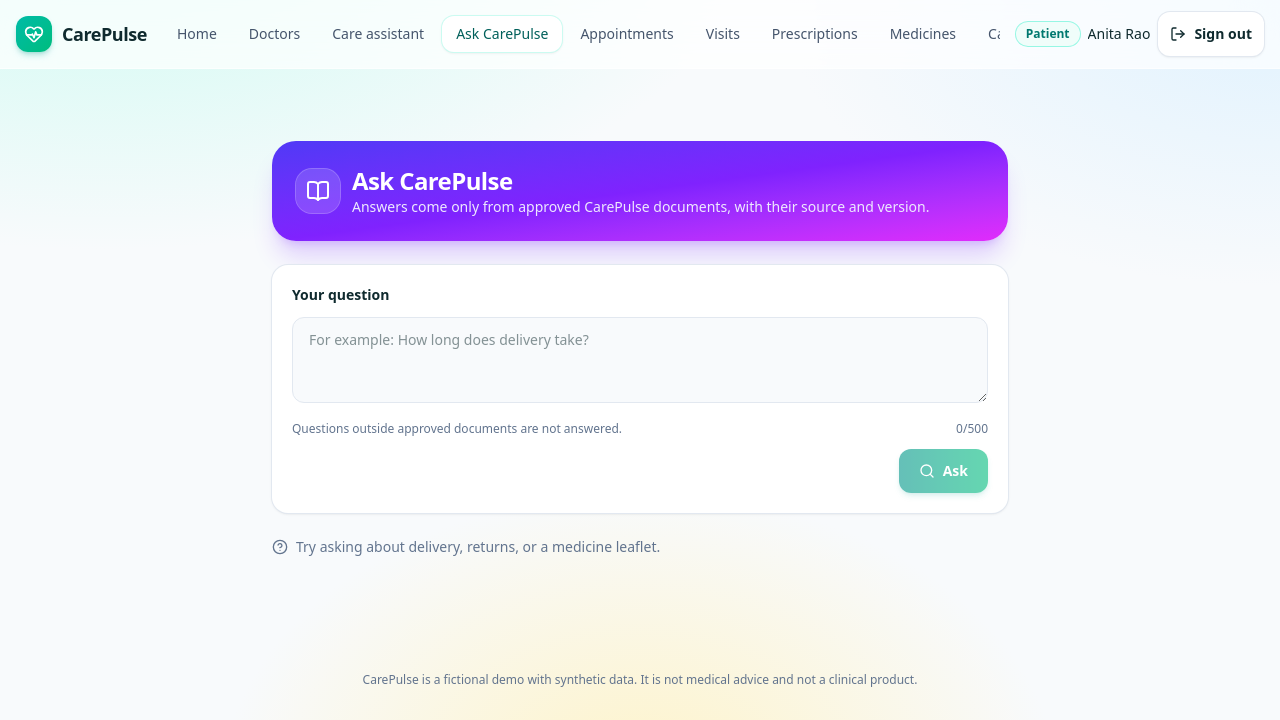
it: Ask CarePulse › source chips show the title, section and version of the cited passage
Type "How do refunds work?" into the text box labelled "Your question" at (640, 360), box left=292, top=317, right=988, bottom=403
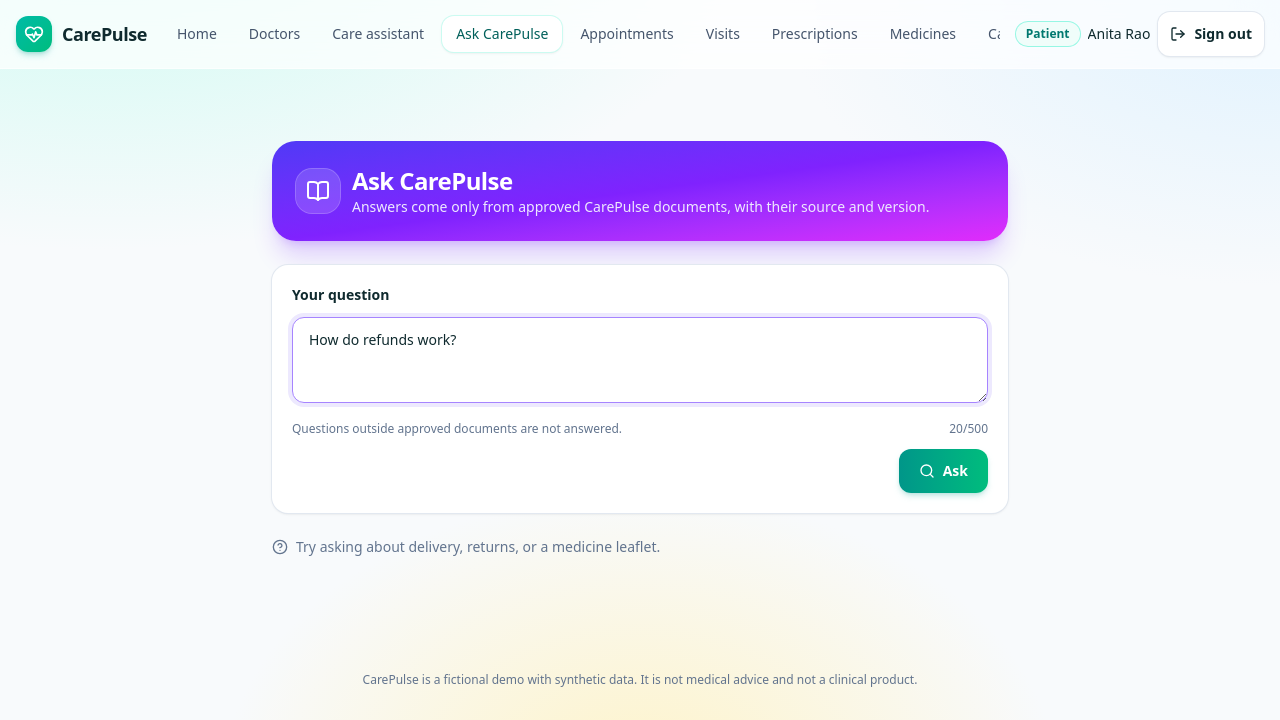
Click the button "Ask" at (943, 471), box left=899, top=449, right=988, bottom=493
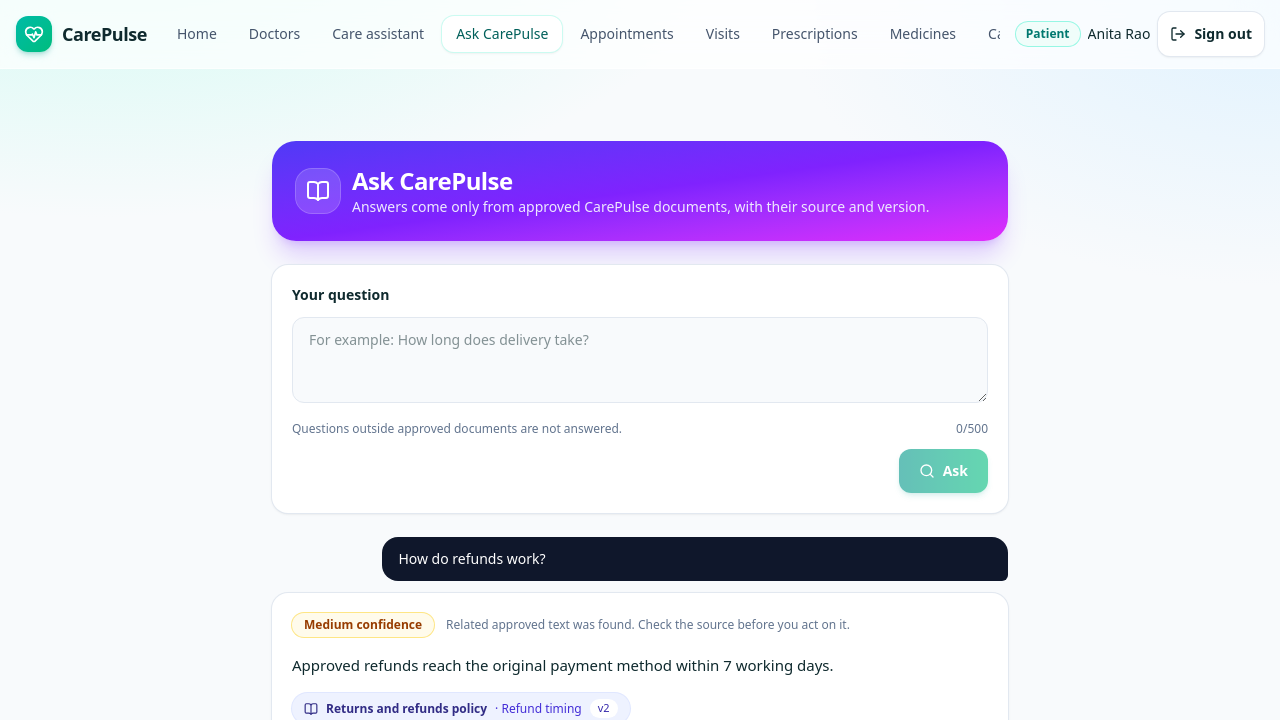
Check: the text "Returns and refunds policy" is shown, box left=326, top=701, right=487, bottom=717
Check: the text "· Refund timing" is shown, box left=495, top=701, right=582, bottom=717
Check: the text "v2" is shown, box left=590, top=699, right=618, bottom=718
